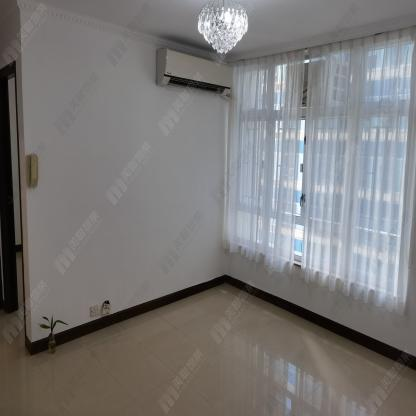AC: (155, 48, 232, 98)
